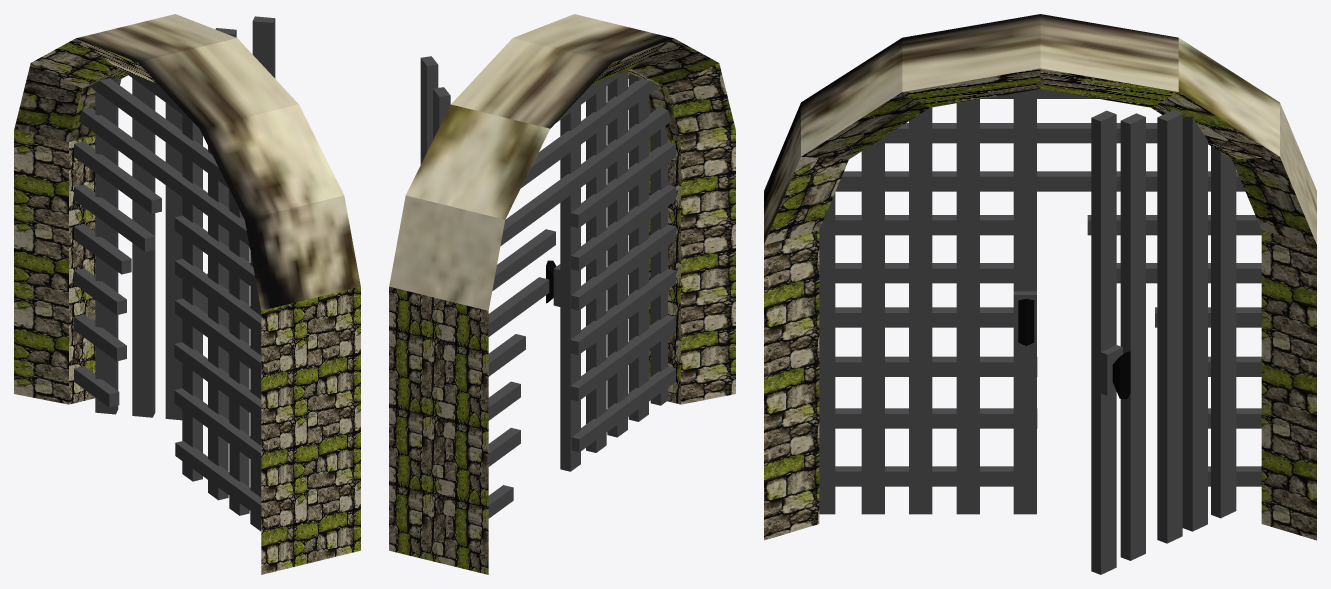
The model's file is sewerDoorOpen.fbx.
3 views of the same model, side by side, from view 1: azimuth 30°, elevation 25°; view 2: azimuth 150°, elevation 25°; view 3: azimuth 270°, elevation 25° (orthographic). The views are drawn at different scales.
Parts seen in each view (by area): view 1: Cube.001; view 2: Cube.001; view 3: Cube.001.
Boxes of the visible parts, <box> form: Cube.001: <box>14,14,360,574</box>; Cube.001: <box>389,14,735,574</box>; Cube.001: <box>764,14,1316,574</box>.
Bounding box in the file's own units: 142 × 334 × 354.
